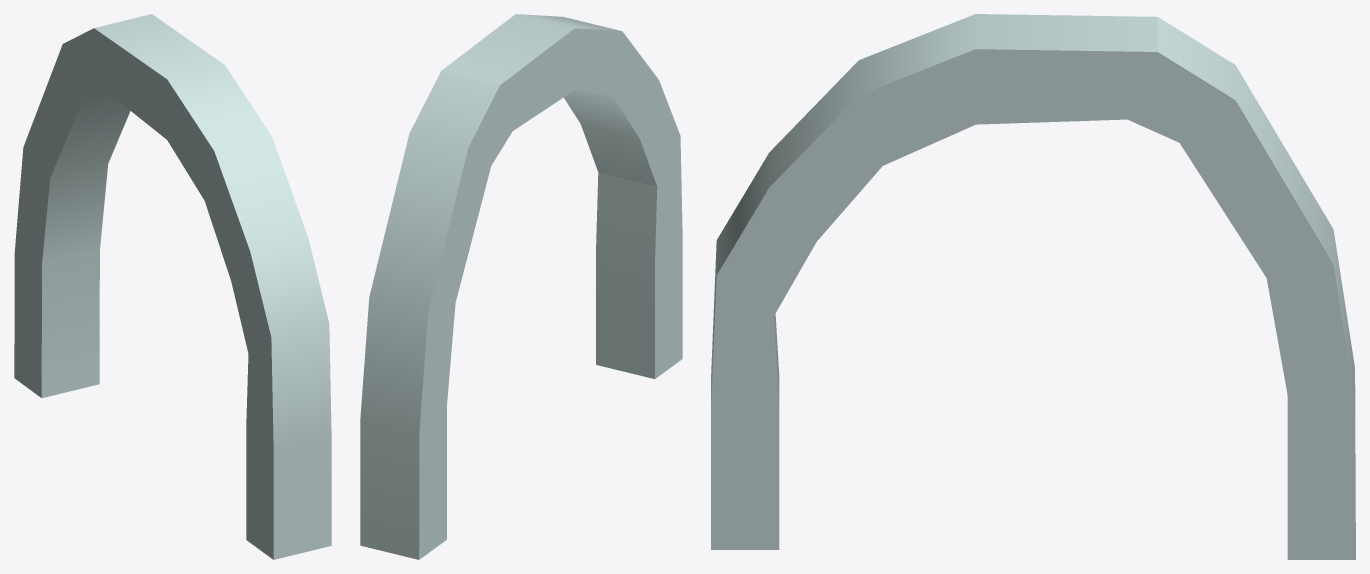
Rendered from Start-End Point.fbx.
3 views of the same model, side by side, from view 1: azimuth 30°, elevation 25°; view 2: azimuth 150°, elevation 25°; view 3: azimuth 270°, elevation 25° (orthographic). The views are drawn at different scales.
Visible parts, largest first — view 1: Start-End Point; view 2: Start-End Point; view 3: Start-End Point.
Part boxes in pixels (bbox=[...]): Start-End Point: bbox=[14, 14, 331, 559]; Start-End Point: bbox=[360, 14, 682, 559]; Start-End Point: bbox=[711, 14, 1355, 559].
Size of the model in its own units: 17.11 by 116 by 133.
